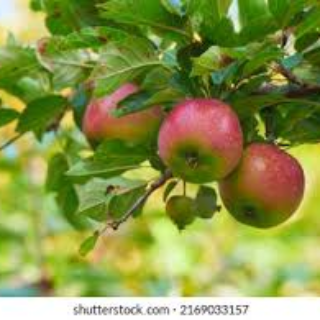tao: (156, 95, 245, 186), (223, 137, 309, 230)
